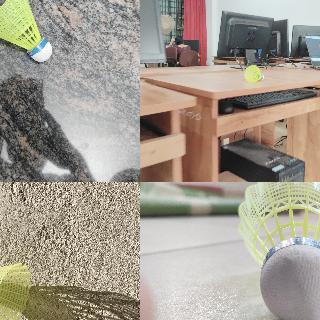shuttlecock: (237, 182, 319, 319), (0, 0, 52, 62), (0, 263, 31, 319), (244, 64, 264, 82)
